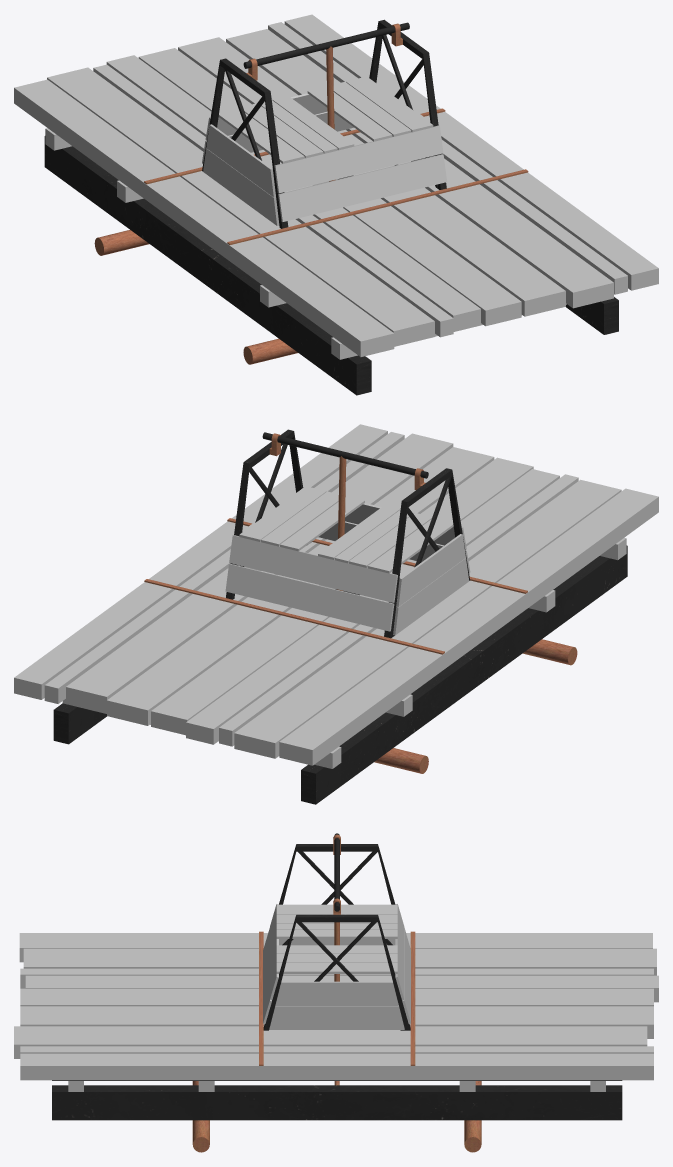
The model's file is MDL_Trolley.fbx.
3 renders of one model, top to bottom at view 1: azimuth 30°, elevation 25°; view 2: azimuth 150°, elevation 25°; view 3: azimuth 270°, elevation 25°, orthographic. The views are drawn at different scales.
Parts seen in each view (by area): view 1: Tabua39; view 2: Tabua39; view 3: Tabua39.
Part boxes in pixels (x1,y1,x2,y2): Tabua39: (14,14,658,395); Tabua39: (14,424,658,804); Tabua39: (14,833,658,1152).
Size of the model in its own units: 10.54 by 7.35 by 20.36.
